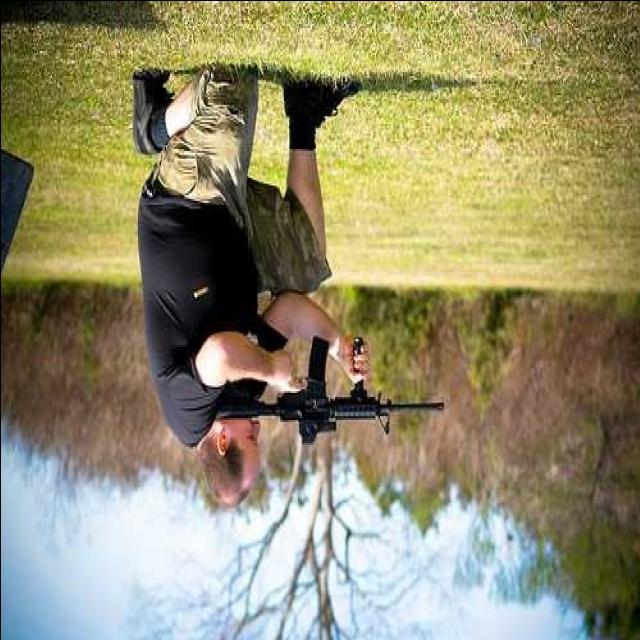heavyweapon: (200, 330, 472, 503)
